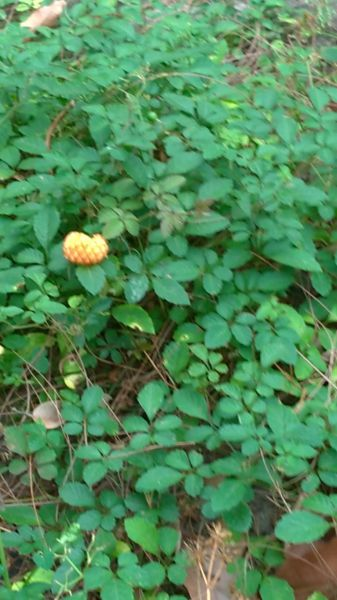eggs: (56, 228, 115, 268)
